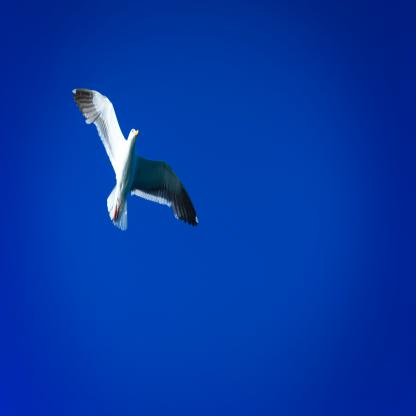bird: (72, 88, 199, 230)
